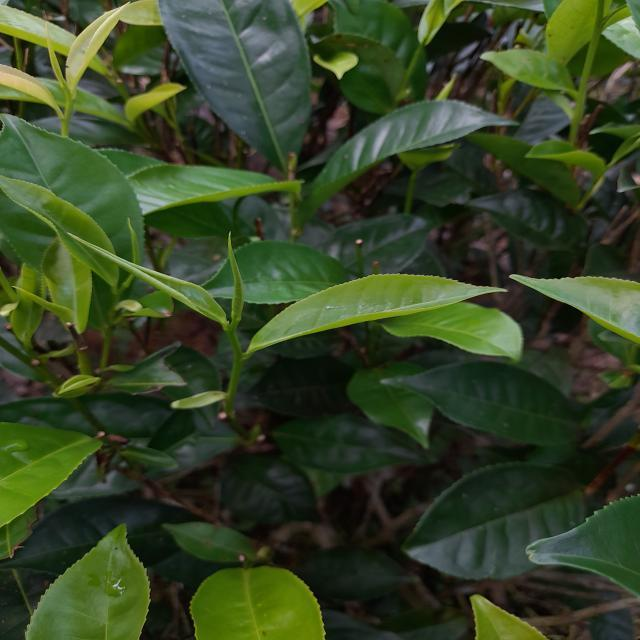Stem: (236, 352, 243, 364), (62, 118, 69, 129)
